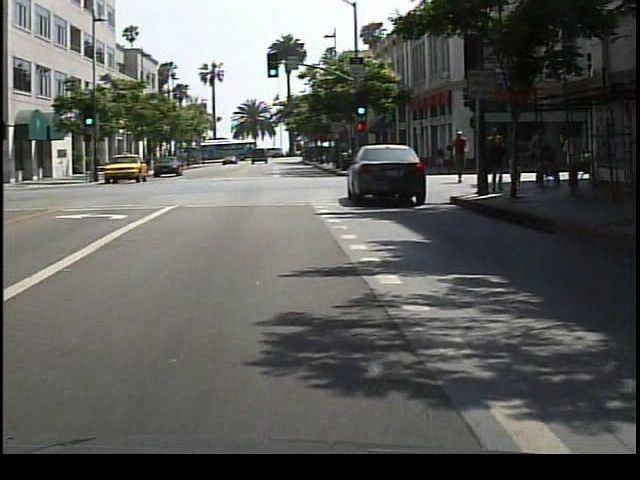person: (451, 129, 474, 190)
